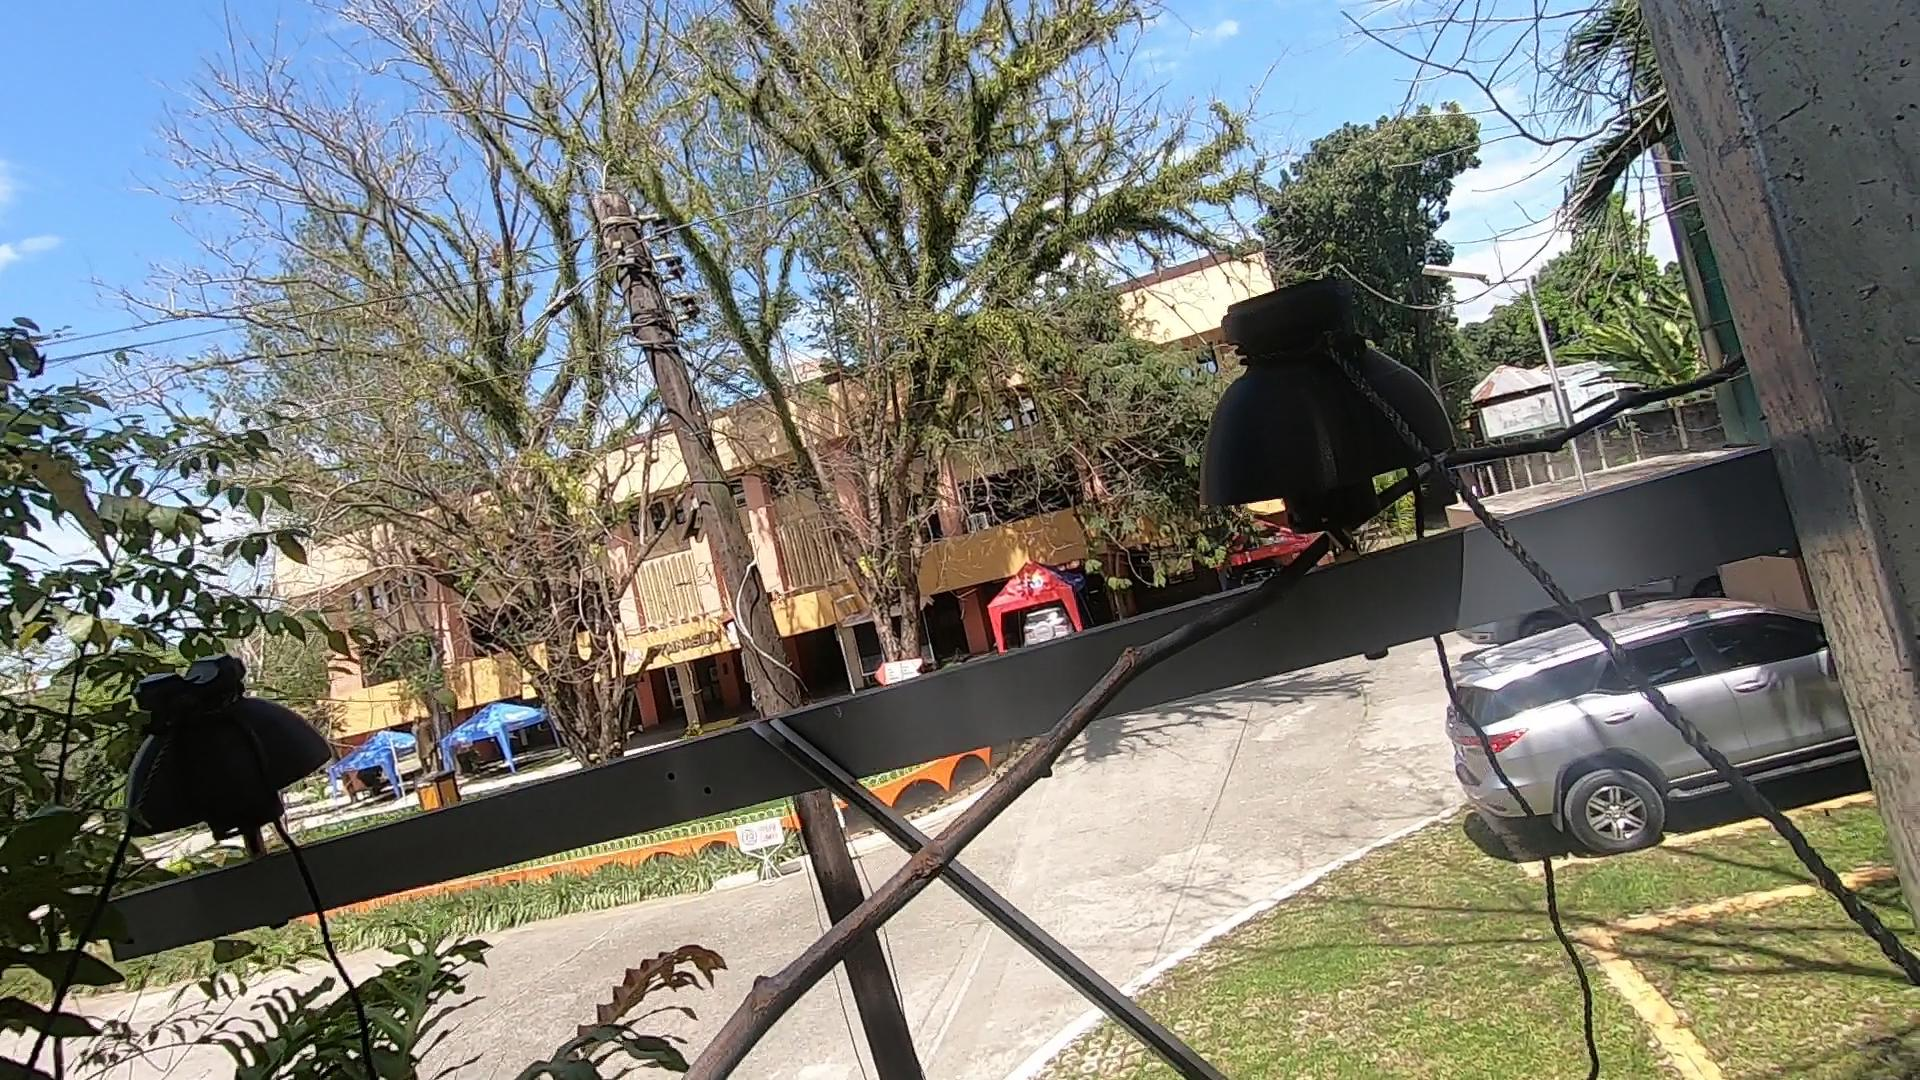tree branch: (592, 343, 1858, 1080)
